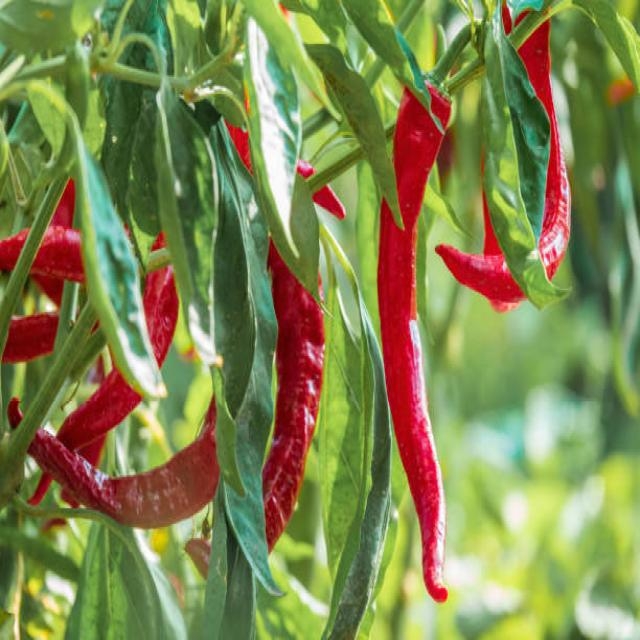Ripe: (378, 84, 450, 602), (58, 239, 184, 450), (29, 405, 219, 528), (262, 242, 325, 550), (519, 21, 570, 278), (436, 246, 524, 309), (0, 227, 84, 282), (2, 314, 59, 363)
